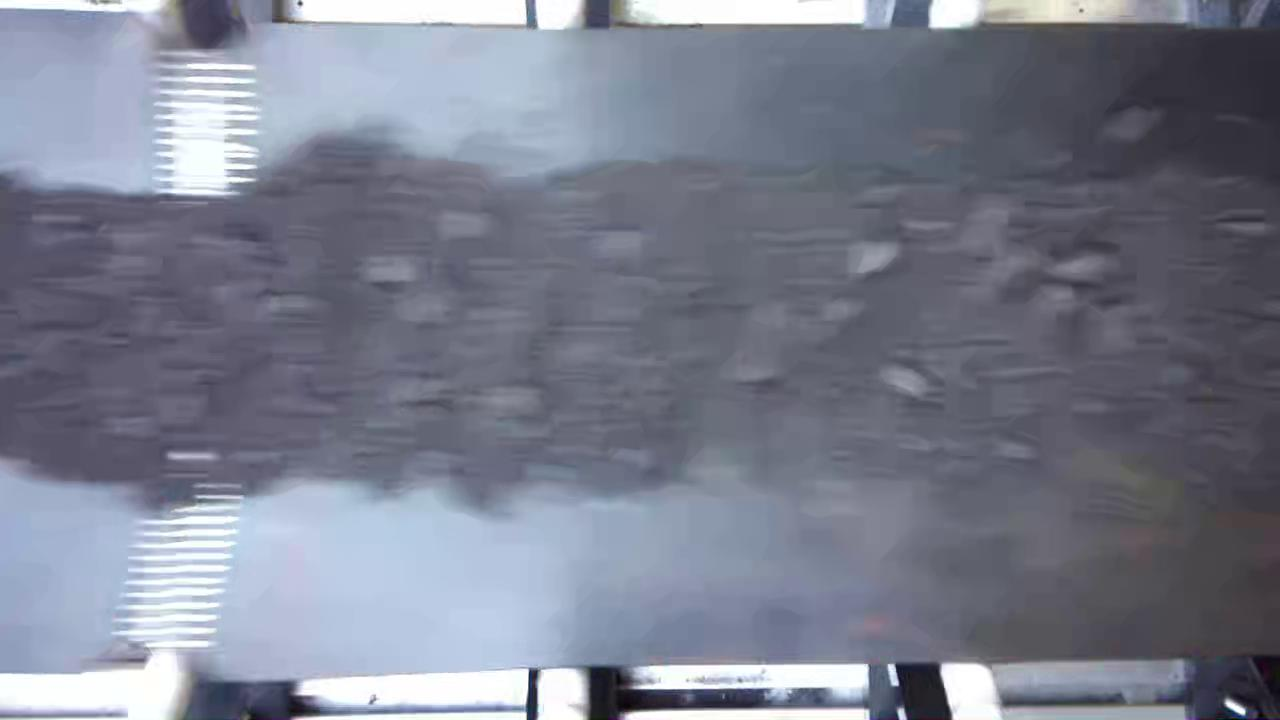conveyor: (3, 35, 1280, 645)
